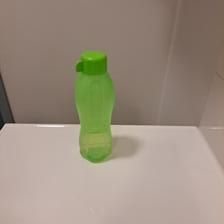bottle: (70, 50, 118, 162)
